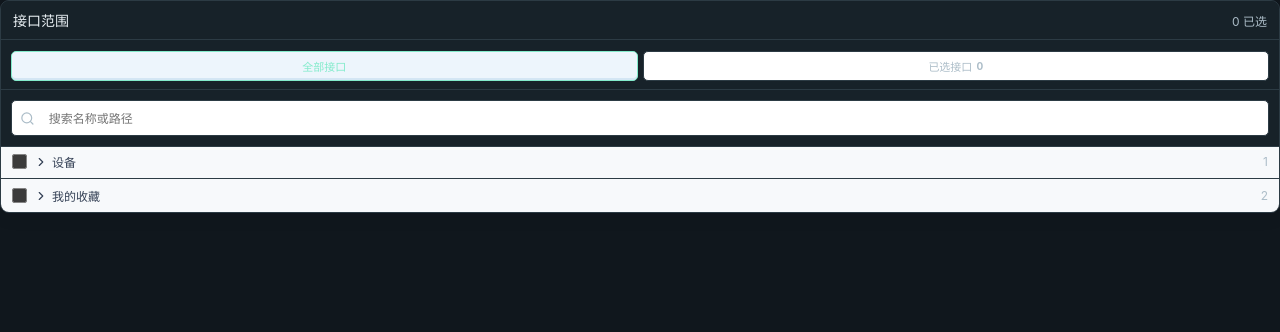
Test case: EndpointTree › starts synced groups collapsed, expands on demand, and toggles all endpoints in a group
expect the text "/favorite/list" is not shown: met
Click the button with test id "group-toggle-我的收藏" at (67, 196), box [34,187,100,204]
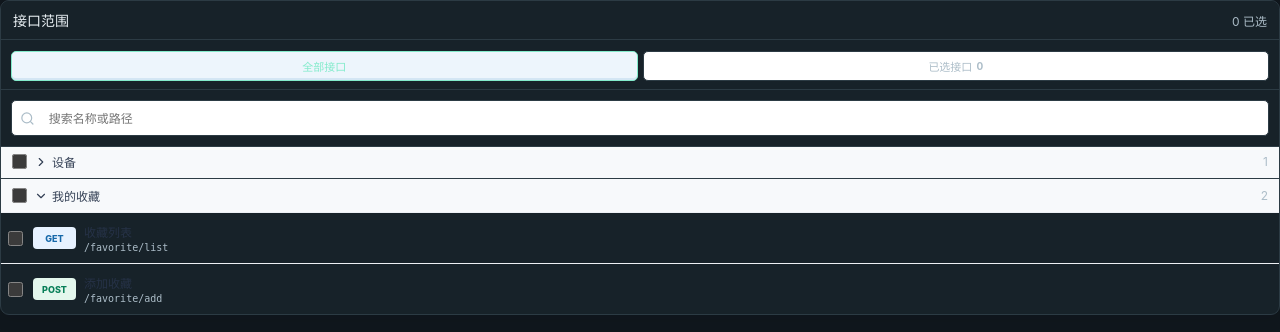
expect the text "/favorite/list" is shown: met, box [84,242,168,253]
Click the checkbox with test id "group-select-我的收藏" at (20, 196), box [12,188,27,203]
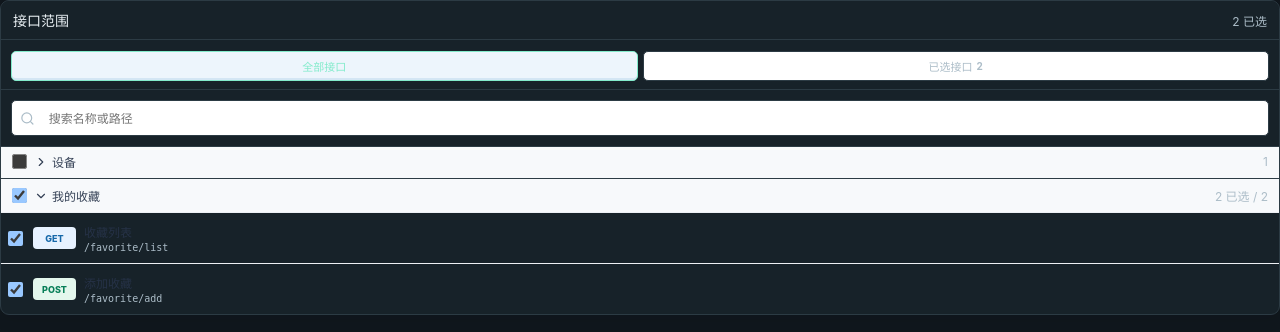
expect the text with test id "group-selected-count-我的收藏" shows "2 已选": met, box [1215,189,1268,204]
